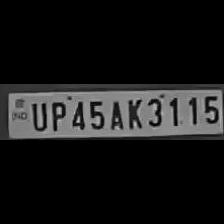1: (165, 94, 181, 128), (183, 93, 199, 126)
3: (144, 96, 164, 128)
4: (68, 97, 86, 130)
5: (86, 97, 106, 130), (200, 92, 218, 126)
A: (107, 97, 125, 130)
K: (123, 96, 143, 130)
P: (47, 98, 66, 132)
U: (29, 99, 47, 131)
